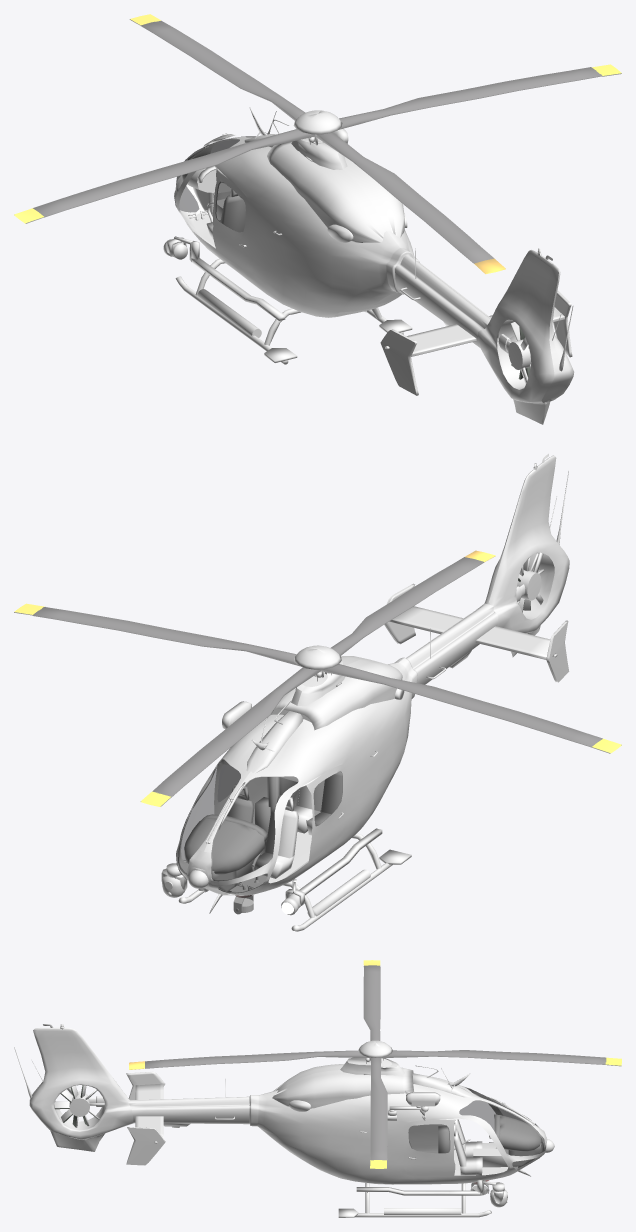
The model's file is searchlightHelicopter.gltf.
3 renders of one model, top to bottom at view 1: azimuth 30°, elevation 25°; view 2: azimuth 150°, elevation 25°; view 3: azimuth 270°, elevation 25°, orthographic. The views are drawn at different scales.
Visible parts, largest first — view 1: chassis, mainRotor; view 2: chassis, mainRotor; view 3: chassis, mainRotor.
Boxes of the visible parts, <box> form: chassis: <box>163,107,574,424</box>; mainRotor: <box>14,14,621,274</box>; chassis: <box>161,453,569,931</box>; mainRotor: <box>14,550,621,806</box>; chassis: <box>14,1024,554,1217</box>; mainRotor: <box>129,960,621,1168</box>.
Size of the model in its own units: 10.17 by 3.95 by 12.57.
15 materials, 2 textured.
